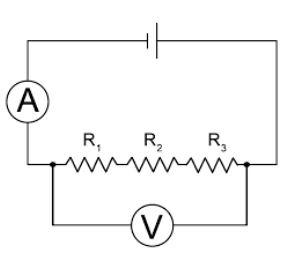resistor: (58, 148, 116, 181), (124, 149, 183, 179), (183, 149, 238, 181)
